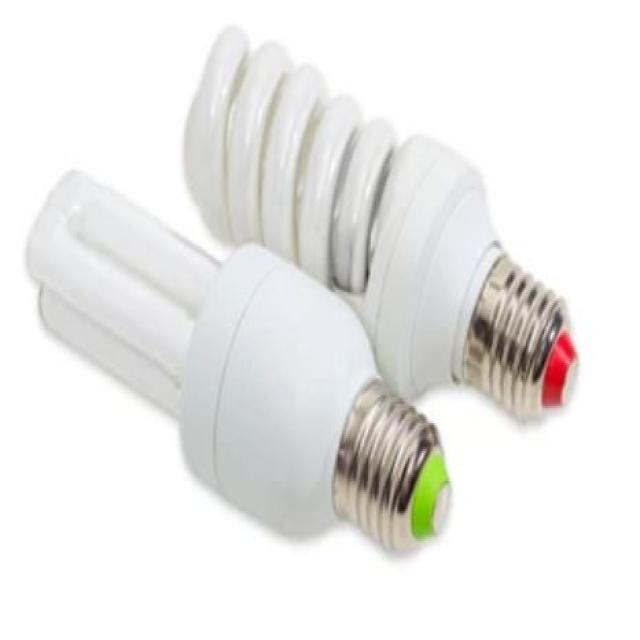electronic: (25, 165, 452, 554), (181, 21, 580, 421)
